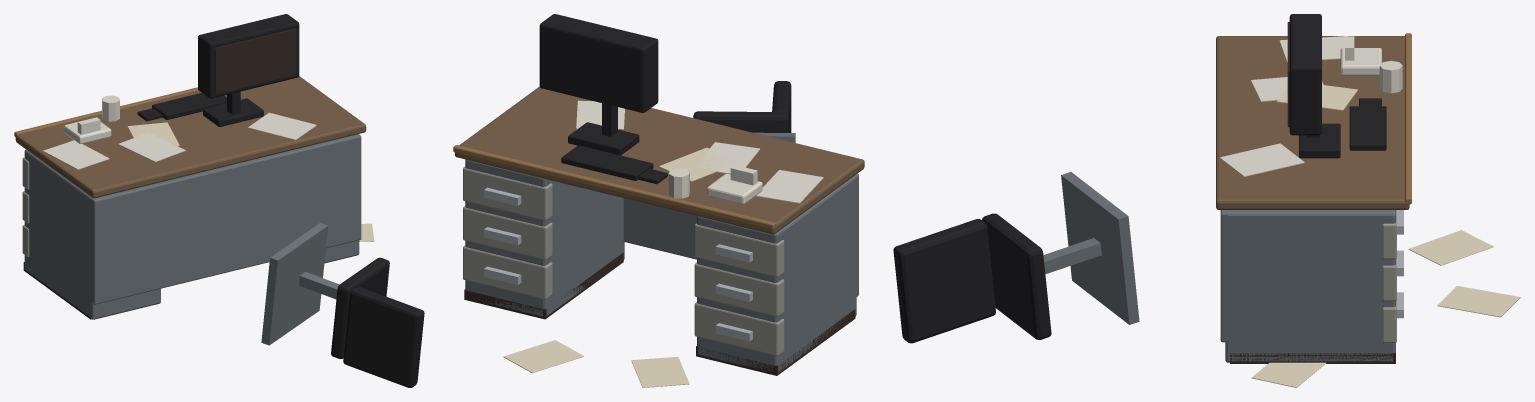
File: police_desk.glb
3 renders of one model, left to right at view 1: azimuth 30°, elevation 25°; view 2: azimuth 150°, elevation 25°; view 3: azimuth 270°, elevation 25°, orthographic. The views are drawn at different scales.
Visible parts, largest first — view 1: police_desk; view 2: police_desk; view 3: police_desk.
Part boxes in pixels (x1,y1,x2,y2): police_desk: (14, 14, 424, 387); police_desk: (453, 14, 864, 387); police_desk: (893, 14, 1520, 387).
Size of what is drawn, in the model's own units: 1.93 by 1.43 by 2.72.
3 materials, 3 textured.
